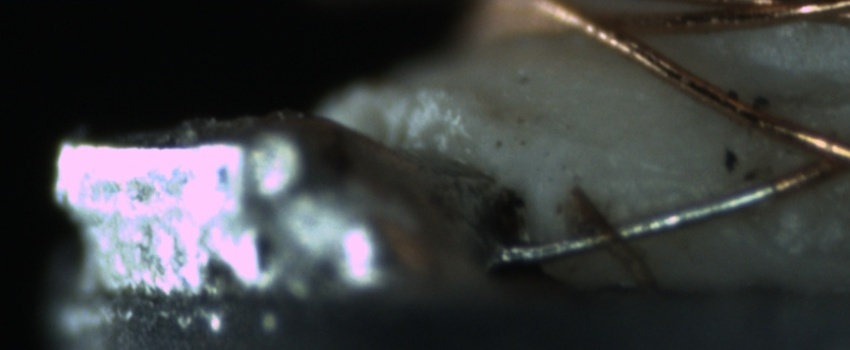CL: (754, 113, 847, 192)
DL: (575, 151, 733, 207)
TS: (497, 184, 774, 263)
